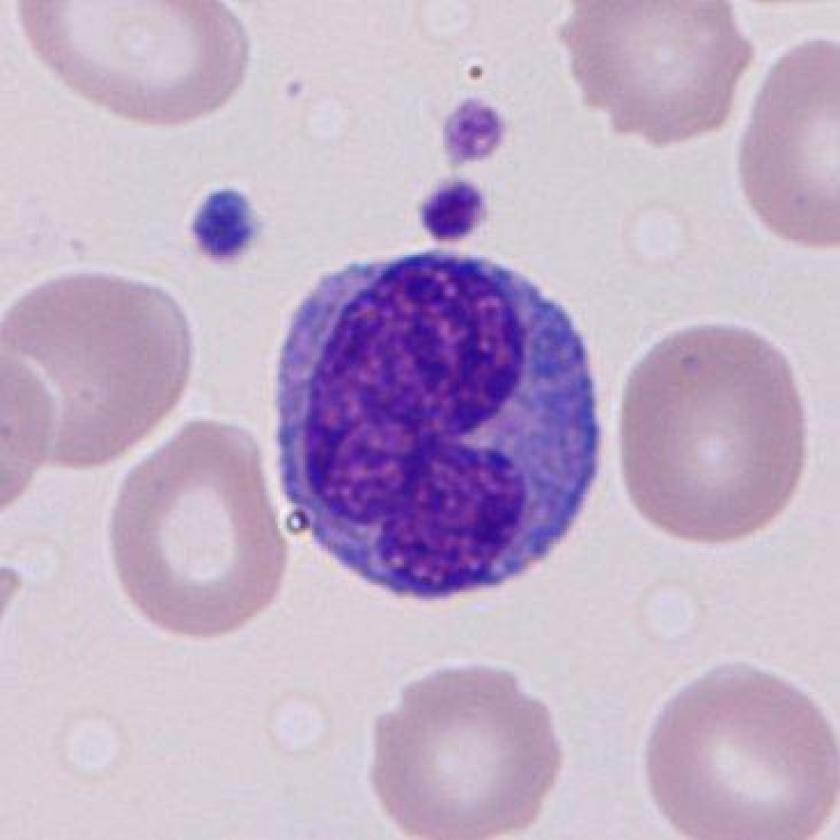monocyte: (258, 236, 625, 630)
